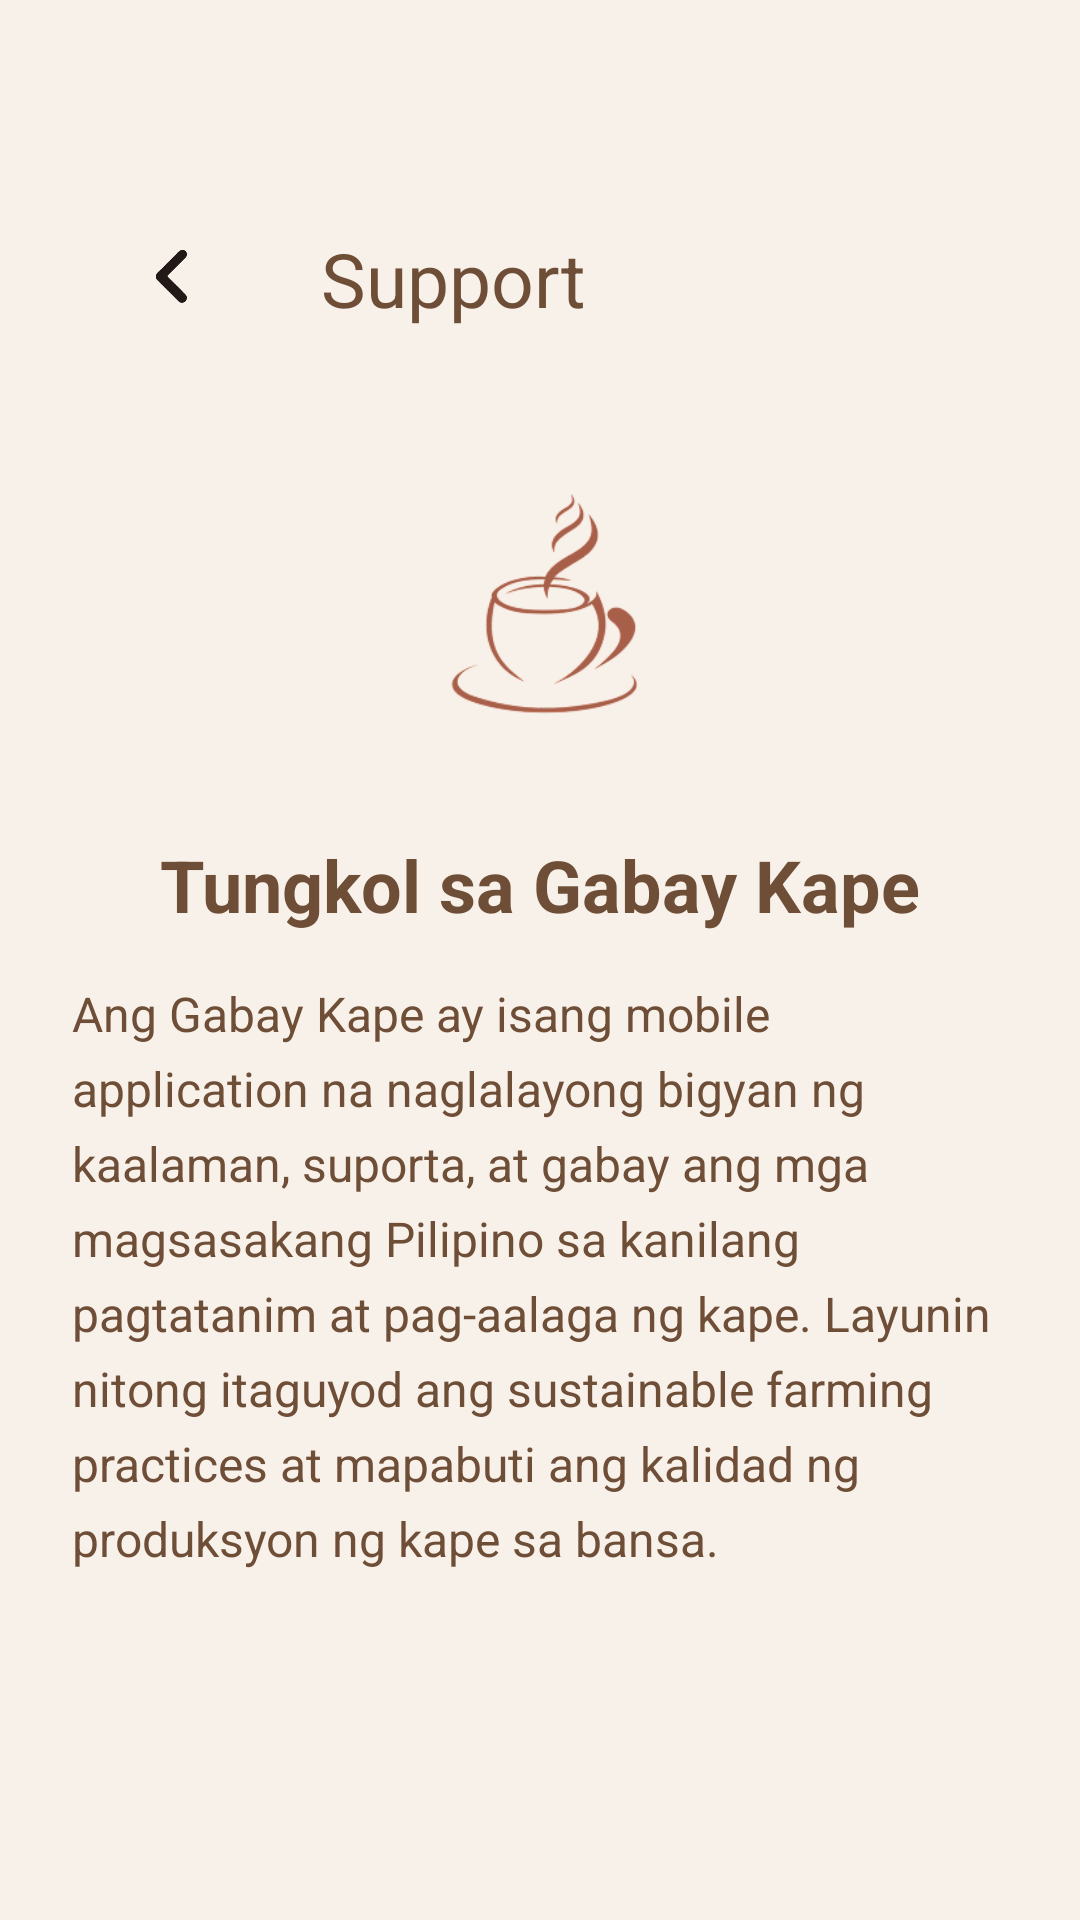

Icon bounding boxes for this 1080 × 1920 phone screenshot, format (x1, y1, x2, y2):
back: (156, 250, 187, 303)
